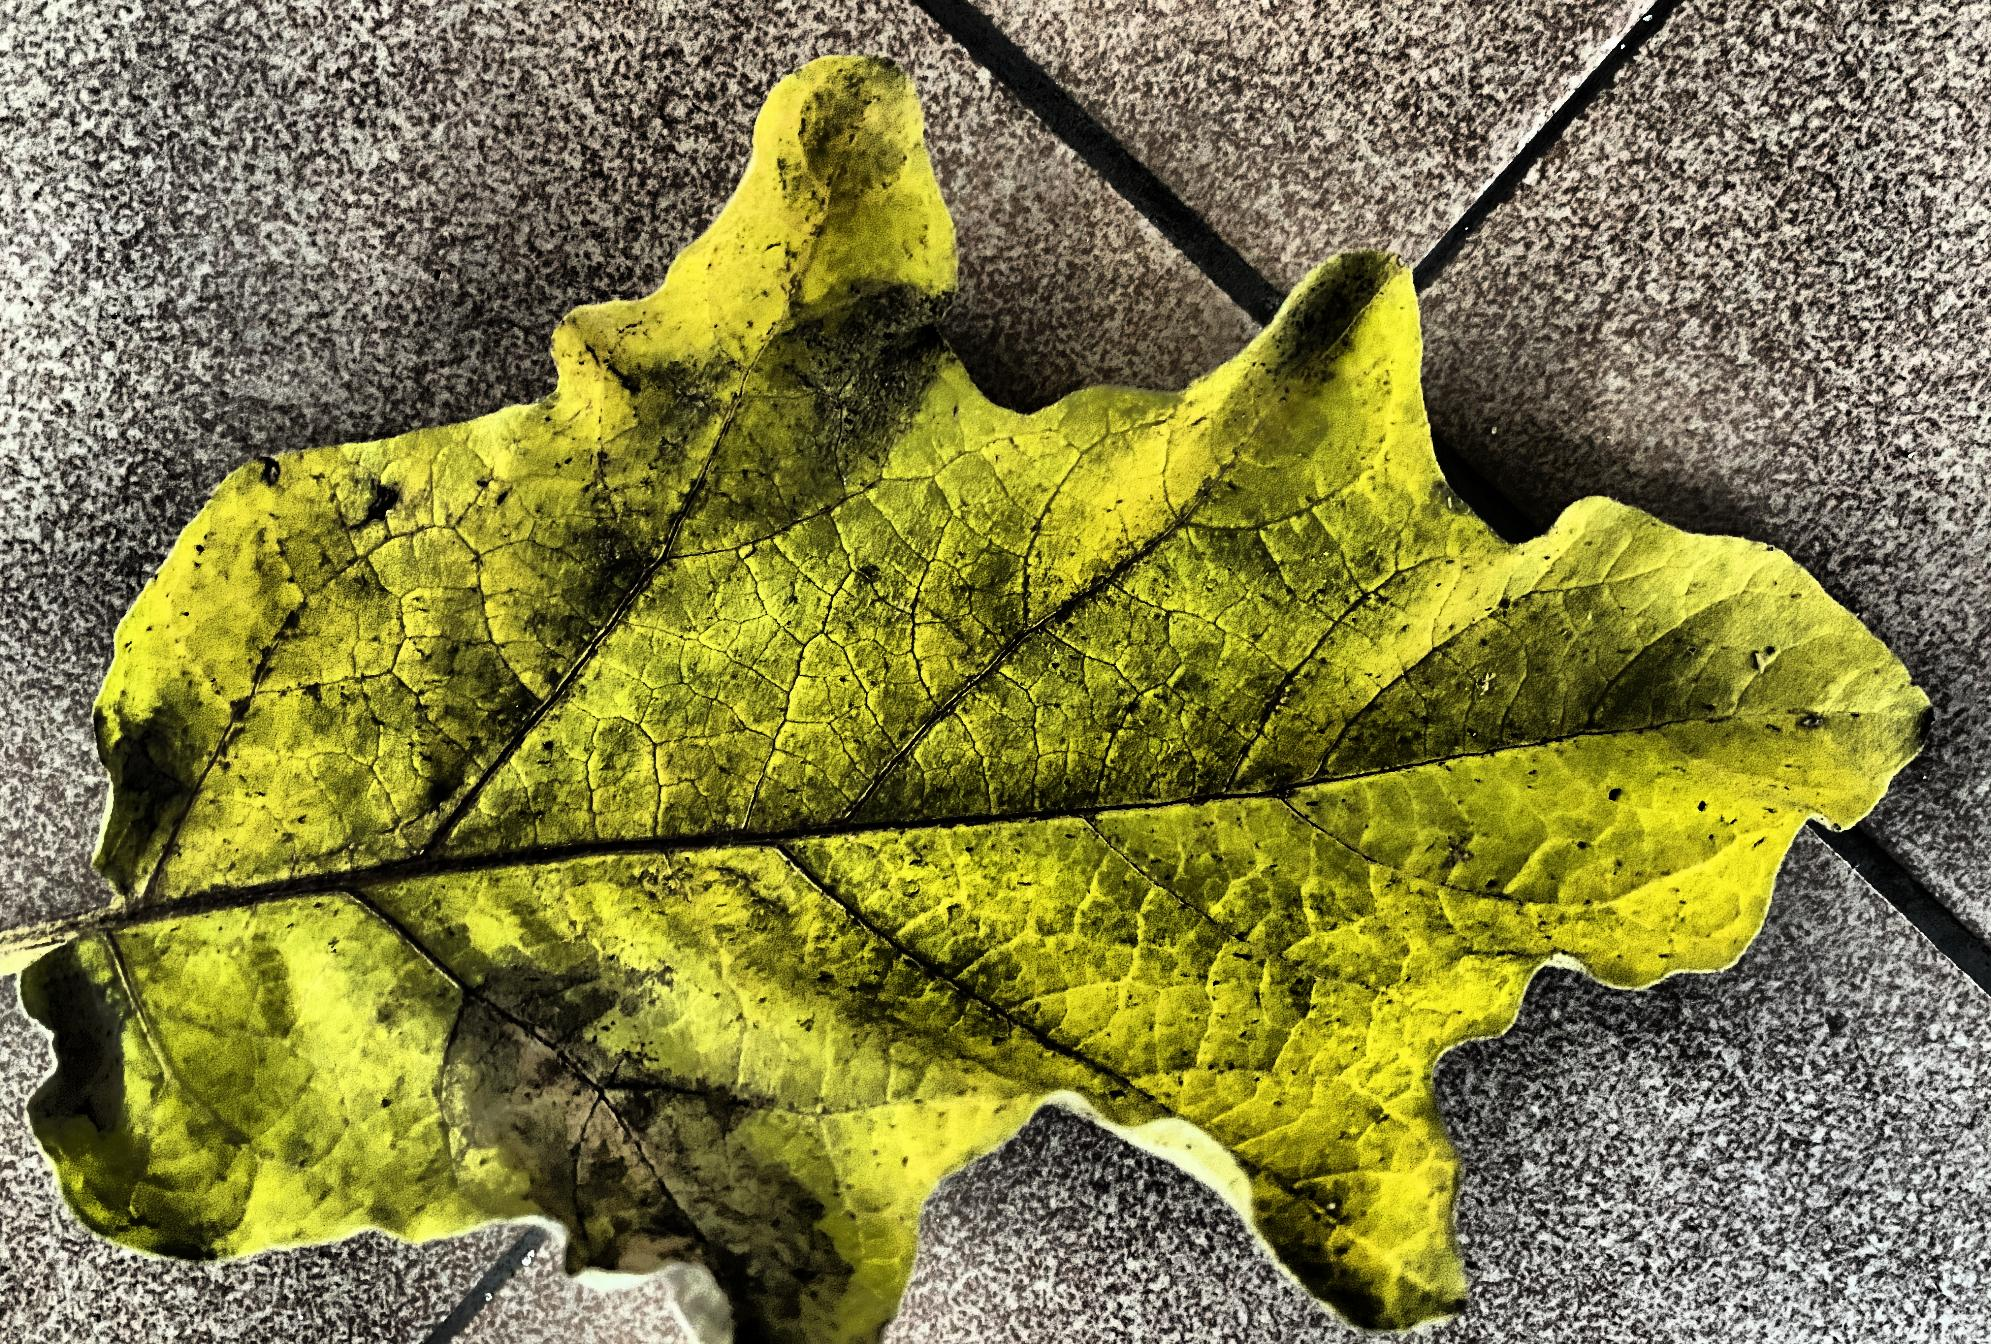Critical Stress: (0, 0, 1991, 1343)
